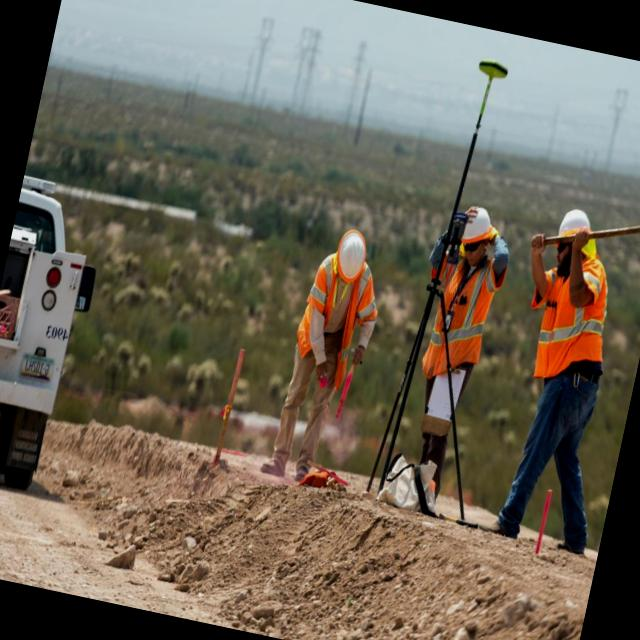helmet: (542, 197, 604, 263), (450, 198, 506, 262), (332, 226, 371, 286)
vest: (419, 254, 504, 388), (534, 246, 623, 368), (292, 254, 386, 368)
